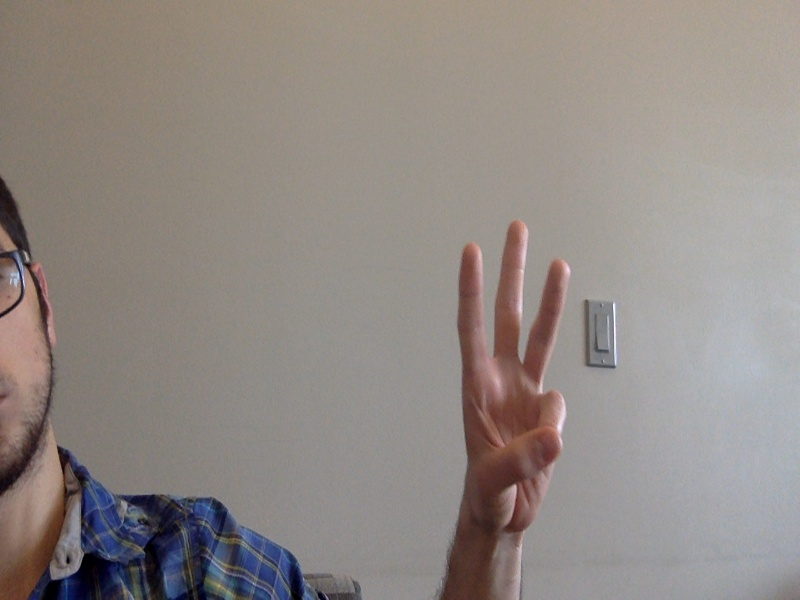3-hand: (457, 218, 572, 556)
